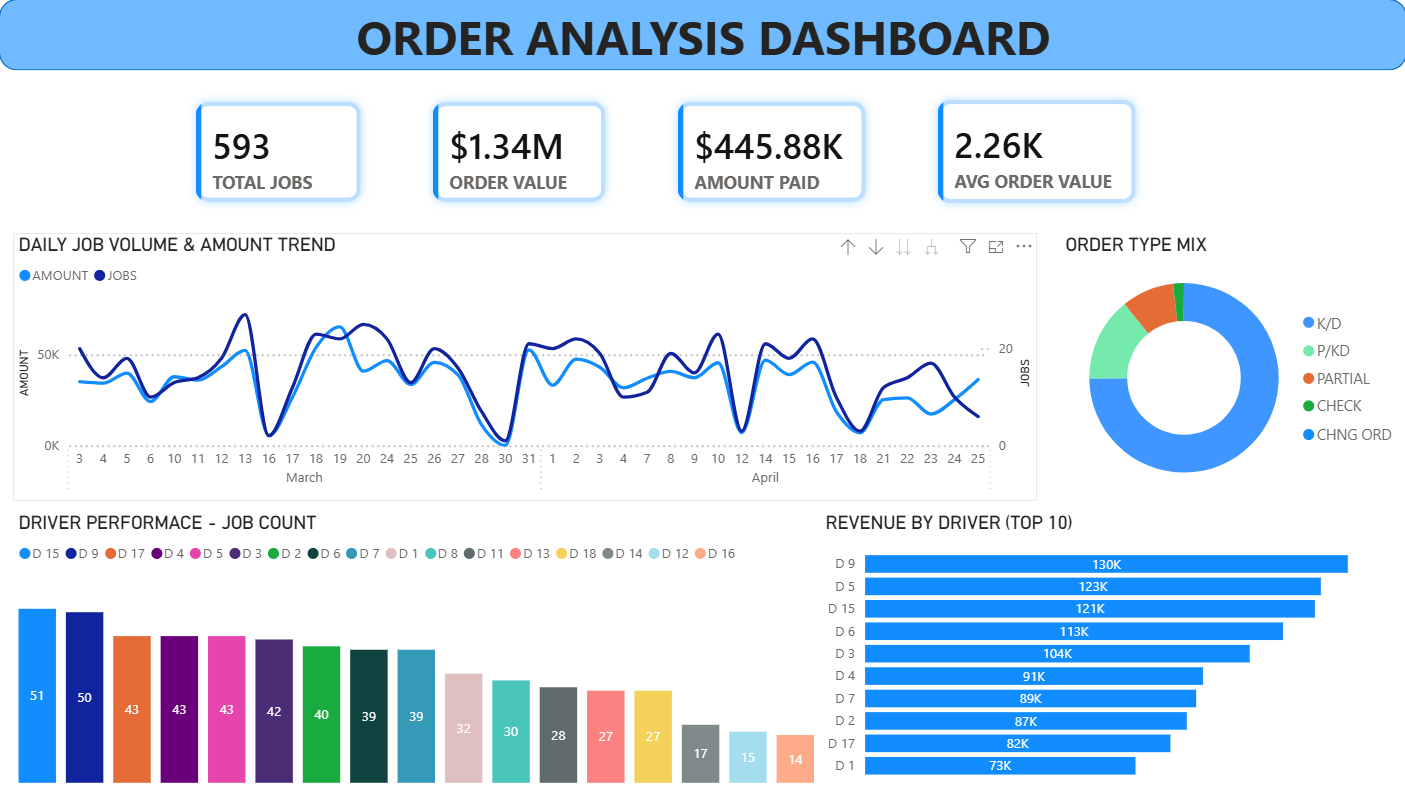

Layout of this report page (visuals, bound fields, positions):
{"tool":"powerbi","page":{"name":"Page 1","canvas":[1280,720],"ordinal":0},"visuals":[{"type":"shape","box":[0,0,1280,64.9],"z":500},{"type":"lineChart","title":"DAILY JOB VOLUME & AMOUNT TREND","fields":{"Category":["Sheet1.Scheduled Date.Variation.Date Hierarchy.Month","Sheet1.Scheduled Date.Variation.Date Hierarchy.Day"],"Y2":["CountNonNull(Sheet1.Job ID)"],"Y":["Sum(Sheet1.Amount in HD)"]},"box":[12.8,212.4,931.1,244.3],"z":1000},{"type":"textbox","box":[294.2,0,691.6,66.7],"z":2000},{"type":"cardVisual","fields":{"Data":["CountNonNull(Sheet1.Job ID)"]},"box":[150.7,65.3,206.5,147.1],"z":3000},{"type":"cardVisual","fields":{"Data":["Sum(Sheet1.Amount in HD)"]},"box":[366.1,65.3,213.8,147.1],"z":4000},{"type":"cardVisual","title":"AVG ORDER VALUE","fields":{"Data":["Sheet1.AVG ORDER VALUE"]},"box":[825,63.5,236.6,150.7],"z":5000},{"type":"cardVisual","fields":{"Data":["Sum(Sheet1.Amount Paid)"]},"box":[588.7,65.3,227.5,147.1],"z":6000},{"type":"donutChart","title":"ORDER TYPE MIX","fields":{"Category":["Sheet1.ORDER/PO THAT ARE K/D"],"Y":["CountNonNull(Sheet1.ORDER/PO THAT ARE K/D)"]},"box":[964.6,212.4,315.4,244.3],"z":7000},{"type":"columnChart","title":"DRIVER PERFORMACE - JOB COUNT","fields":{"Category":["Sheet1.Driver"],"Y":["CountNonNull(Sheet1.Job ID)"],"Series":["Sheet1.Driver"]},"box":[12.8,465,733.6,253.1],"z":8000},{"type":"barChart","title":"REVENUE BY DRIVER (TOP 10)","fields":{"Category":["Sheet1.Driver"],"Y":["Sum(Sheet1.Amount in HD)","CountNonNull(Sheet1.Job ID)"]},"box":[746.4,465,518,253.1],"z":9000}]}

Visuals, with their boxes in screenshot pixels (x1, y1, x2, y2), scaled from the page's 1280x720 canvas onto the 1405x789 screenshot:
shape: (left=0, top=0, right=1404, bottom=71)
"DAILY JOB VOLUME & AMOUNT TREND" lineChart: (left=14, top=233, right=1036, bottom=500)
textbox: (left=323, top=0, right=1082, bottom=73)
cardVisual - CountNonNull(Sheet1.Job ID): (left=165, top=72, right=392, bottom=233)
cardVisual - Sum(Sheet1.Amount in HD): (left=402, top=72, right=637, bottom=233)
"AVG ORDER VALUE" cardVisual: (left=906, top=70, right=1165, bottom=235)
cardVisual - Sum(Sheet1.Amount Paid): (left=646, top=72, right=896, bottom=233)
"ORDER TYPE MIX" donutChart: (left=1059, top=233, right=1404, bottom=500)
"DRIVER PERFORMACE - JOB COUNT" columnChart: (left=14, top=510, right=819, bottom=787)
"REVENUE BY DRIVER (TOP 10)" barChart: (left=819, top=510, right=1388, bottom=787)
